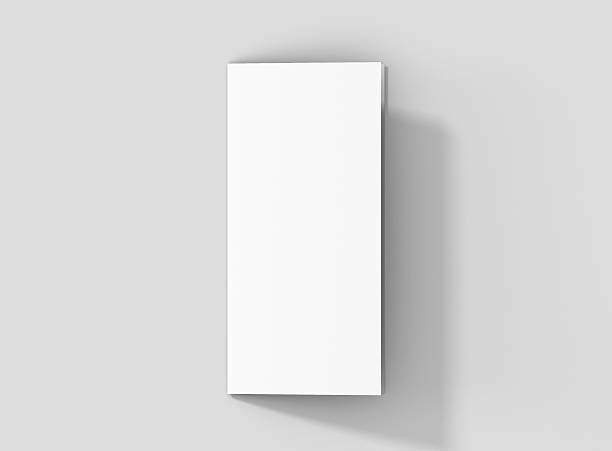dikdortgen: (225, 59, 384, 396)
